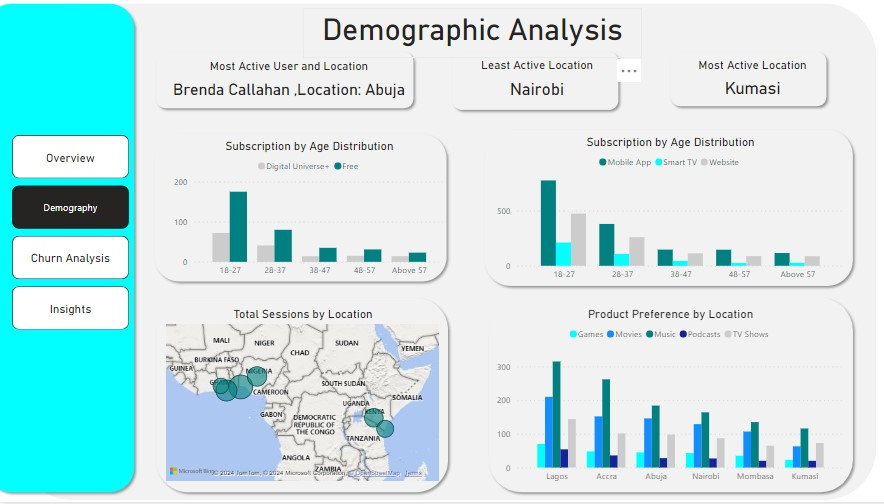

The page's visual inventory and layout, read from the dashboard file:
{"tool":"powerbi","page":{"name":"Demography","canvas":[1280,720],"ordinal":1},"visuals":[{"type":"card","title":"Most Active User and Location","fields":{"Values":["Measures Table.MostActiveUserWithLocation"]},"box":[232.9,87.1,360,65.7],"z":0},{"type":"card","title":"Most Active Location","fields":{"Values":["Measures Table.Most Active Location"]},"box":[958.6,85.7,232.9,65.7],"z":1000},{"type":"card","title":"Least Active Location","fields":{"Values":["Measures Table.Least Active Location"]},"box":[658.6,85.7,217.1,68.6],"z":2000},{"type":"clusteredColumnChart","title":"Subscription by Age Distribution","fields":{"Category":["user_profile_data 2.Age Distribution"],"Series":["user_profile_data 2.Sept_sub_type"],"Y":["user_profile_data 2.Sept_sub_type"]},"box":[242.4,201.3,398.3,205.5],"z":3000},{"type":"clusteredColumnChart","title":"Subscription by Age Distribution","fields":{"Category":["user_profile_data 2.Age Distribution"],"Series":["session_data 2.Platform"],"Y":["Measures Table.Total Sessions"]},"box":[704.4,195.6,507.4,216.9],"z":4000},{"type":"map","fields":{"Size":["Measures Table.Total Sessions"],"Category":["user_profile_data 2.Location"]},"box":[232.9,441.4,400,254.3],"z":5000},{"type":"clusteredColumnChart","title":"Product Preference by Location","fields":{"Category":["user_profile_data 2.Location"],"Y":["Measures Table.Total Sessions"],"Series":["session_data 2.Product Type"]},"box":[704.4,440.8,507.4,259.4],"z":6000},{"type":"pageNavigator","box":[17,195.6,167.2,280.6],"z":7000},{"type":"textbox","box":[432.9,14.3,484.3,71.4],"z":8000}]}

Visuals, with their boxes on the page's 1280x720 design canvas (x1, y1, x2, y2). These are canvas units, not pixel positions in the 884x504 screenshot, which may show the page scaled, cropped or inside an application window:
"Most Active User and Location" card: {"left": 233, "top": 87, "right": 593, "bottom": 153}
"Most Active Location" card: {"left": 959, "top": 86, "right": 1192, "bottom": 151}
"Least Active Location" card: {"left": 659, "top": 86, "right": 876, "bottom": 154}
"Subscription by Age Distribution" clusteredColumnChart: {"left": 242, "top": 201, "right": 641, "bottom": 407}
"Subscription by Age Distribution" clusteredColumnChart: {"left": 704, "top": 196, "right": 1212, "bottom": 412}
map - Measures Table.Total Sessions x user_profile_data 2.Location: {"left": 233, "top": 441, "right": 633, "bottom": 696}
"Product Preference by Location" clusteredColumnChart: {"left": 704, "top": 441, "right": 1212, "bottom": 700}
pageNavigator: {"left": 17, "top": 196, "right": 184, "bottom": 476}
textbox: {"left": 433, "top": 14, "right": 917, "bottom": 86}
